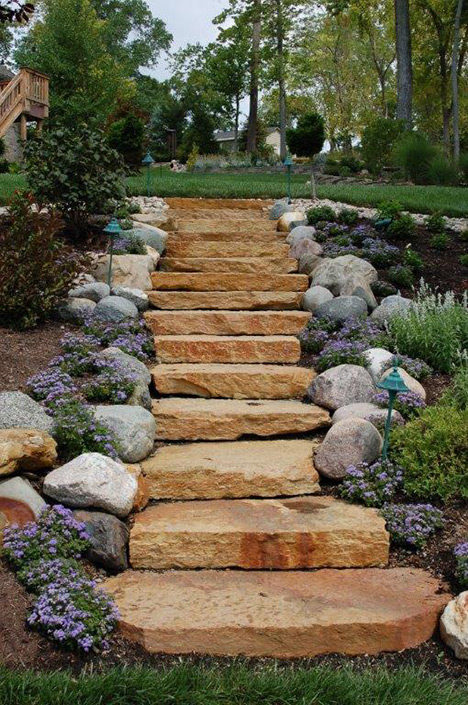upstairs: (156, 390, 325, 680)
